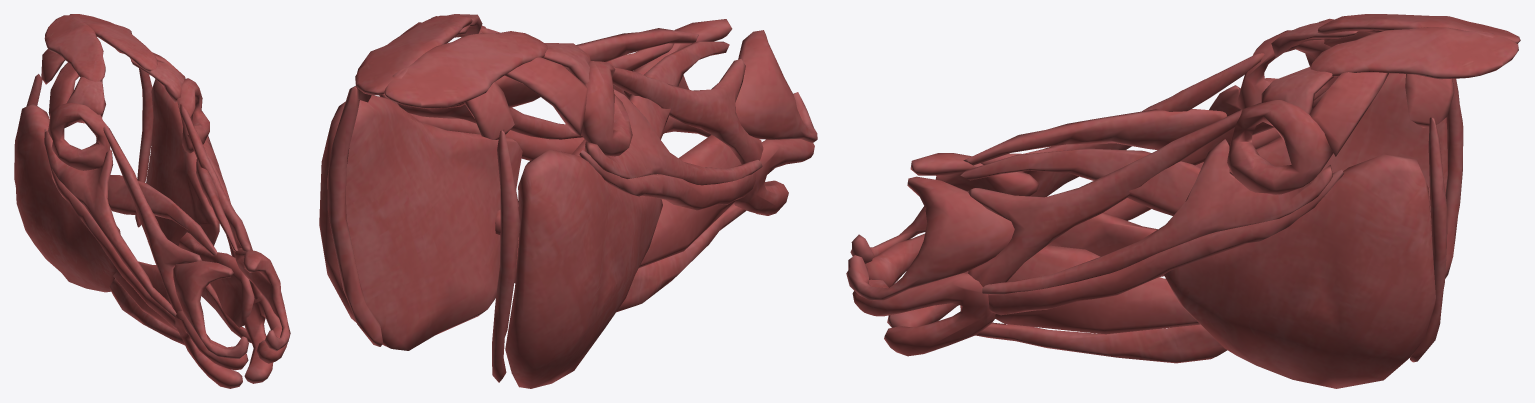
The model's file is Facial_Muscles.glb.
3 renders of one model, left to right at view 1: azimuth 30°, elevation 25°; view 2: azimuth 150°, elevation 25°; view 3: azimuth 270°, elevation 25°, orthographic. The views are drawn at different scales.
Visible parts, largest first — view 1: facial_muscles.001; view 2: facial_muscles.001; view 3: facial_muscles.001.
Part boxes in pixels (x1=…): facial_muscles.001: x1=14, y1=14, x2=290, y2=388; facial_muscles.001: x1=319, y1=14, x2=817, y2=388; facial_muscles.001: x1=846, y1=14, x2=1520, y2=388.
Bounding box in the file's own units: 0.2482 × 0.3147 × 0.5748.
1 material, 1 textured.
